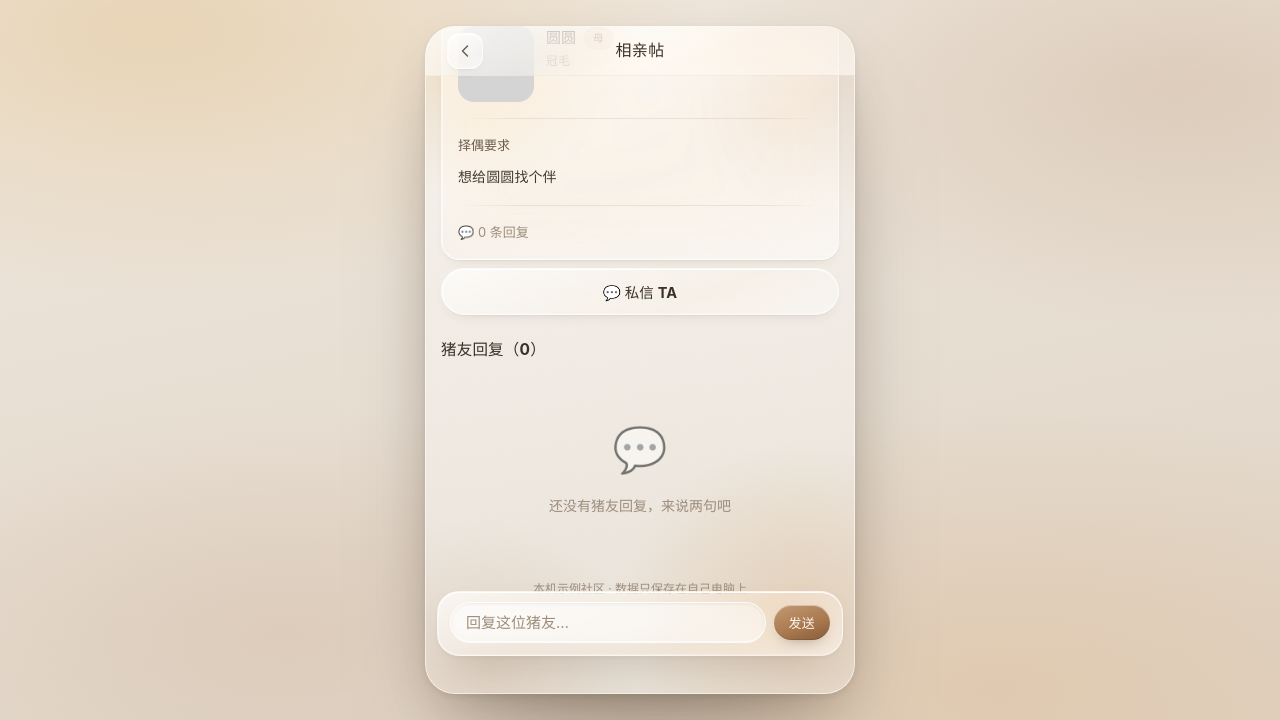
Scenario: 新增功能2 · 本地相猪 › 猪友之间可以相互回复，回复带着回复人的用户名
(page scrolled)
Type "我家也是杭州的，可以先聊聊～" into the field with class "comment-bar__input". click: [608, 623]
box: [450, 602, 766, 643]
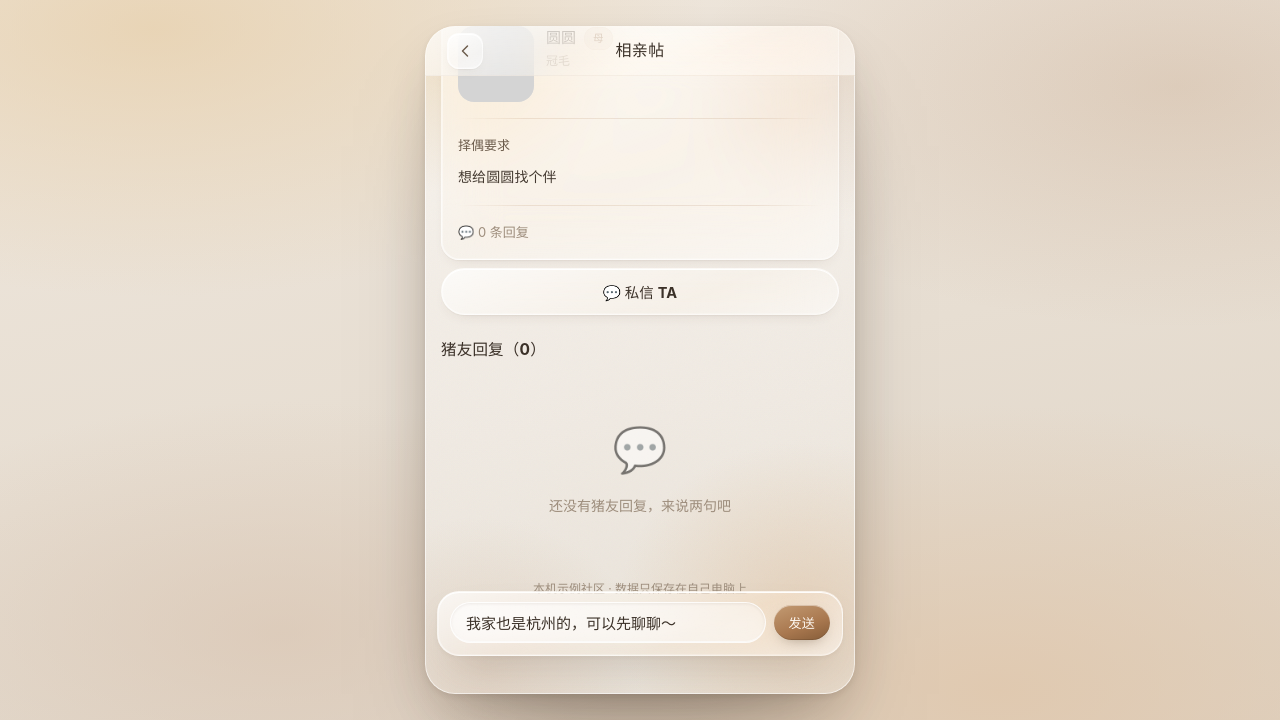
Click the button "发送". click: [802, 623]
box: [774, 605, 830, 640]
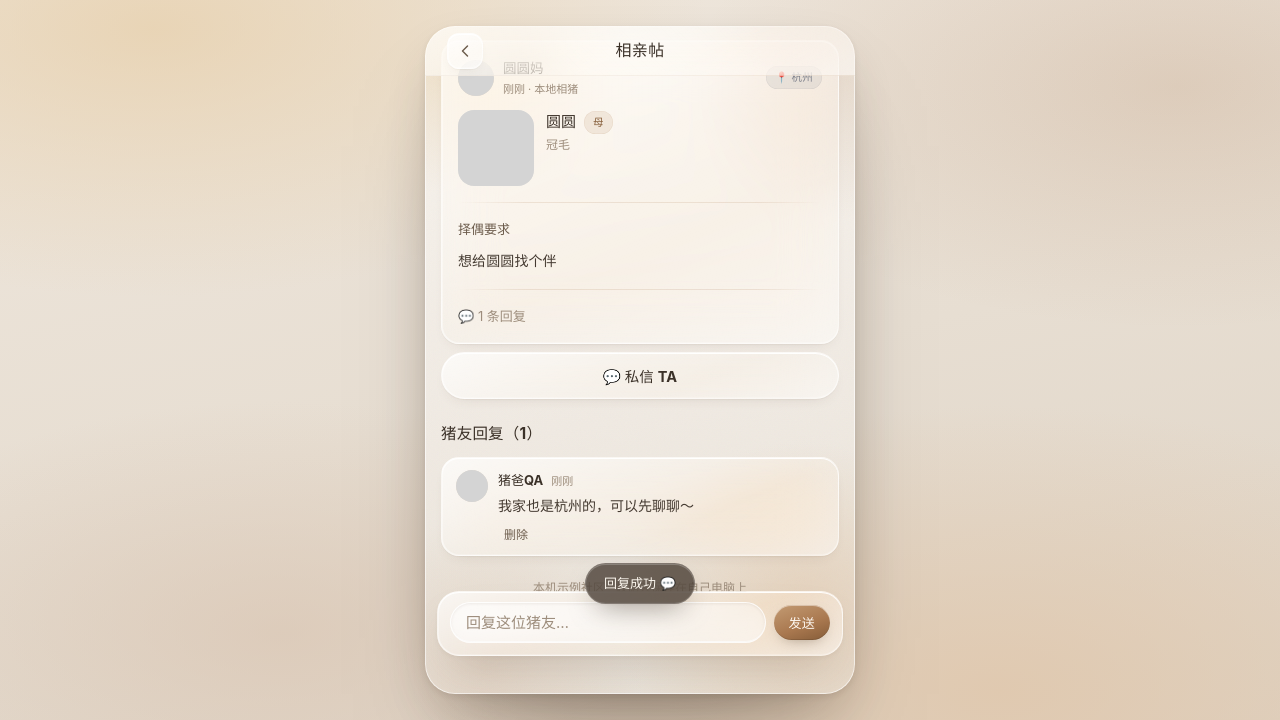
Check: the element with class "comment" is shown, box [441, 457, 839, 556]
Check: the text "我家也是杭州的，可以先聊聊～" is shown, box [498, 497, 694, 514]
